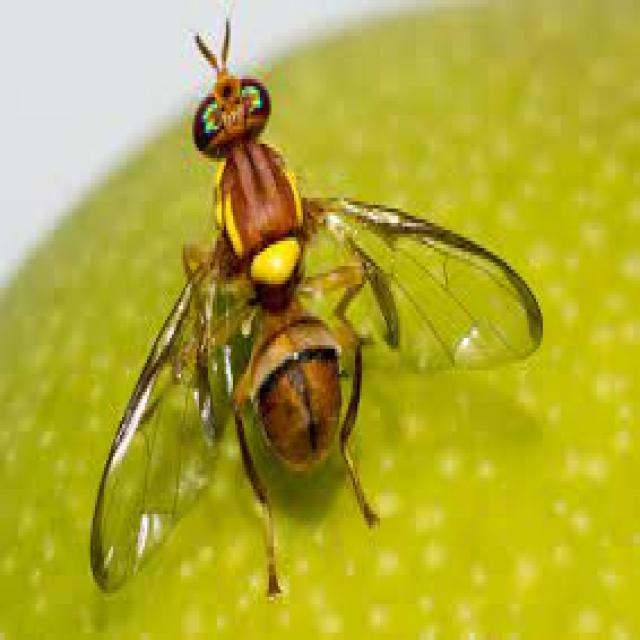Fruit fly: (84, 0, 551, 611)
